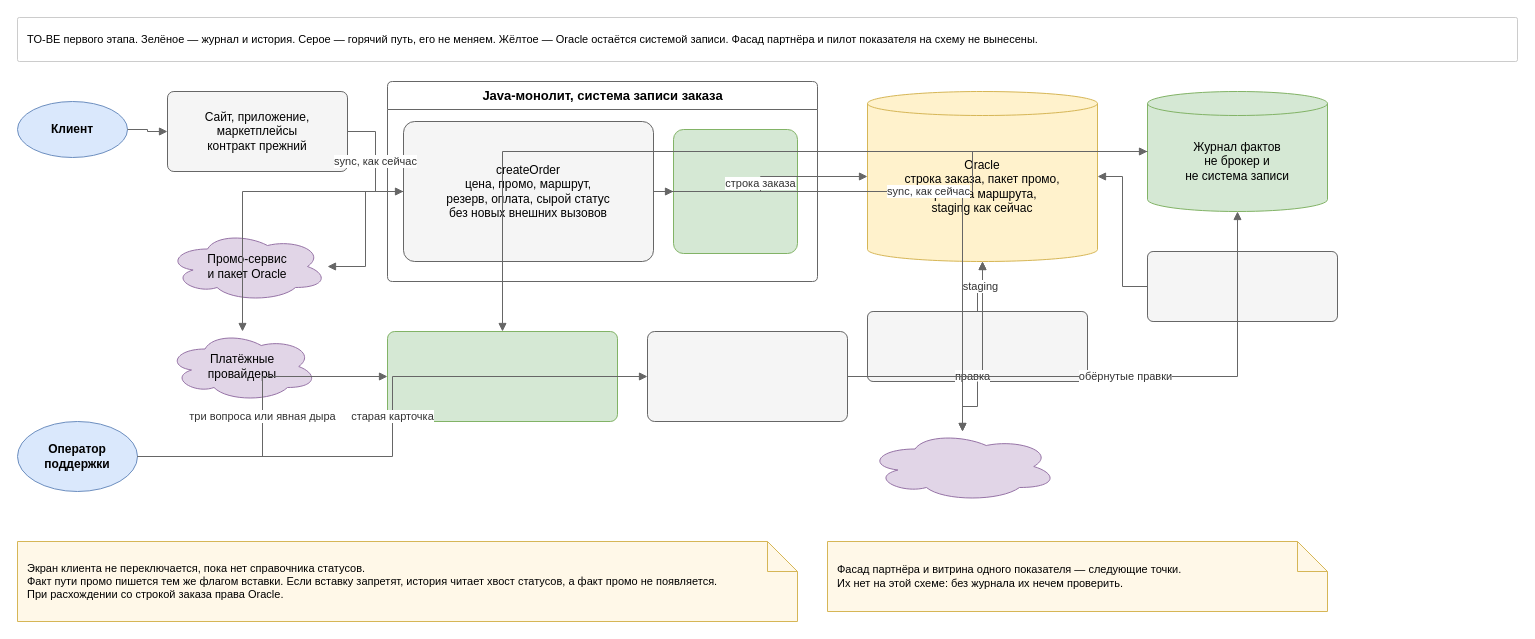
The diagram is 1535 pixels wide and 639 high, and some of its shapes have lost their labels. Here are the shapes that lost their labels. From the top down, the centre of each, then its label:
At [735,191]: "Узкий факт или хвост существующей истории".
At [1242,286]: "Отчёты по-прежнему из Oracle".
At [977,346]: ".NET и доставка в этот этап не входят".
At [502,376]: "История для поддержки своё хранилище, собирается из журнала".
At [747,376]: "Админка прежняя правка. Известные точки пишут факт".
At [962,466]: "Службы доставки прежние способы".
